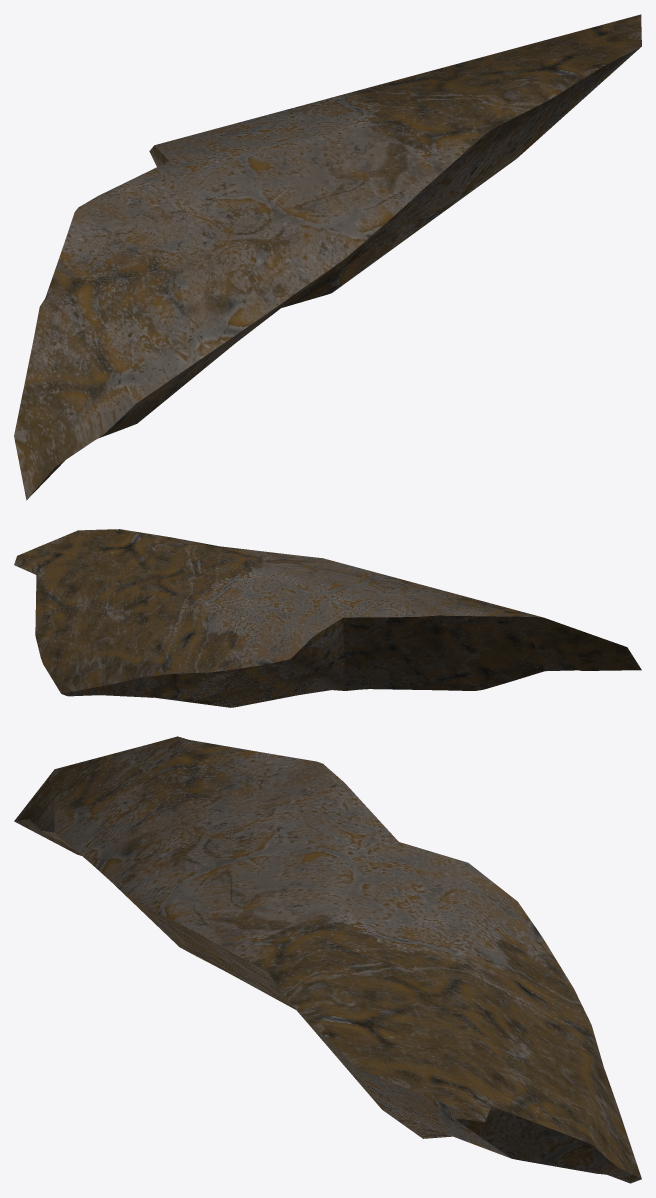
File: RockShard11.fbx
The picture shows the model from 3 angles, top to bottom: view 1: azimuth 30°, elevation 25°; view 2: azimuth 150°, elevation 25°; view 3: azimuth 270°, elevation 25°; orthographic projection. The views are drawn at different scales.
Visible parts, largest first — view 1: RockShard11; view 2: RockShard11; view 3: RockShard11.
Boxes of the visible parts, x1,y1,x2,y2 form: RockShard11: (14, 14, 641, 500); RockShard11: (14, 529, 641, 707); RockShard11: (14, 736, 641, 1183).
Size of the model in its own units: 97.41 by 23.24 by 58.15.
